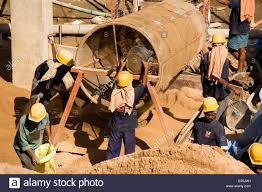helmet: (249, 142, 262, 163), (57, 49, 73, 65), (29, 105, 46, 120), (204, 95, 218, 111), (116, 71, 131, 85), (211, 33, 225, 45)
